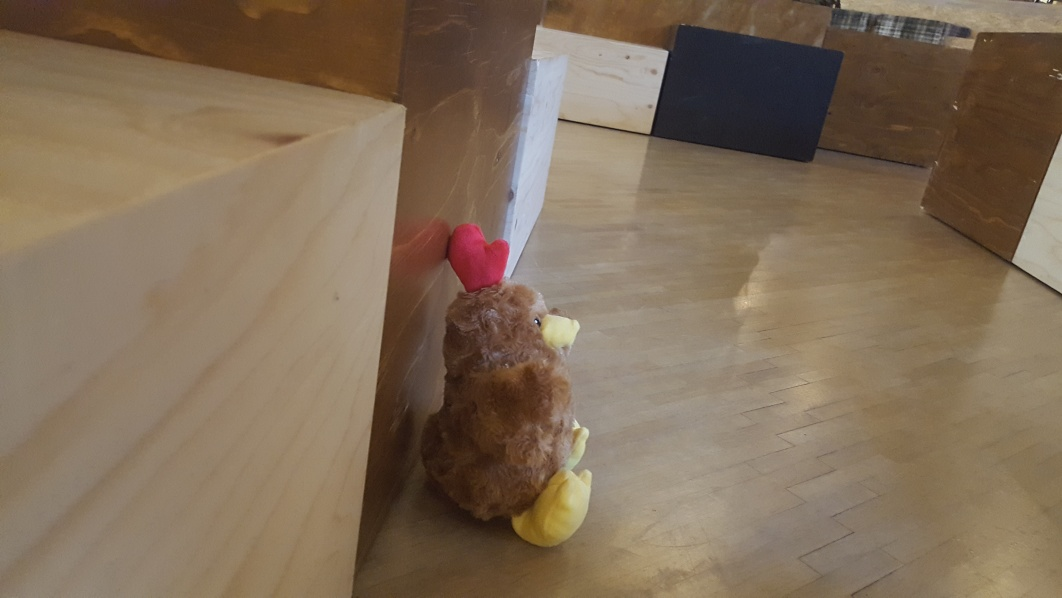chicken: (420, 218, 597, 561)
